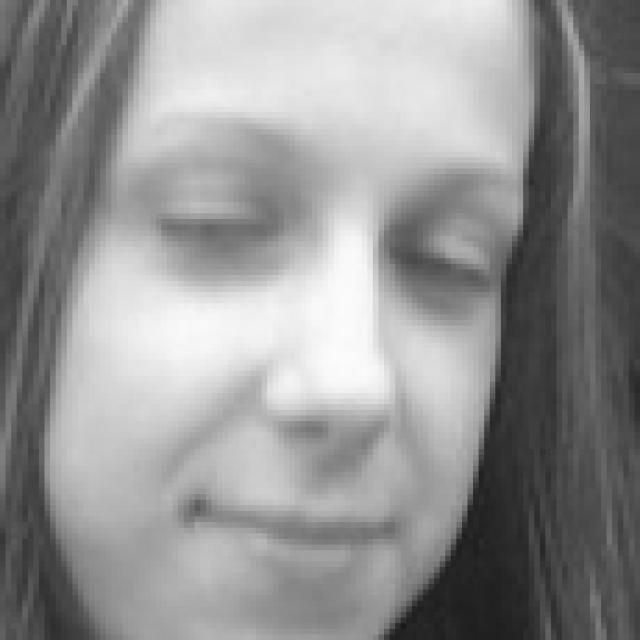real: (48, 0, 552, 640), (141, 171, 502, 306)
